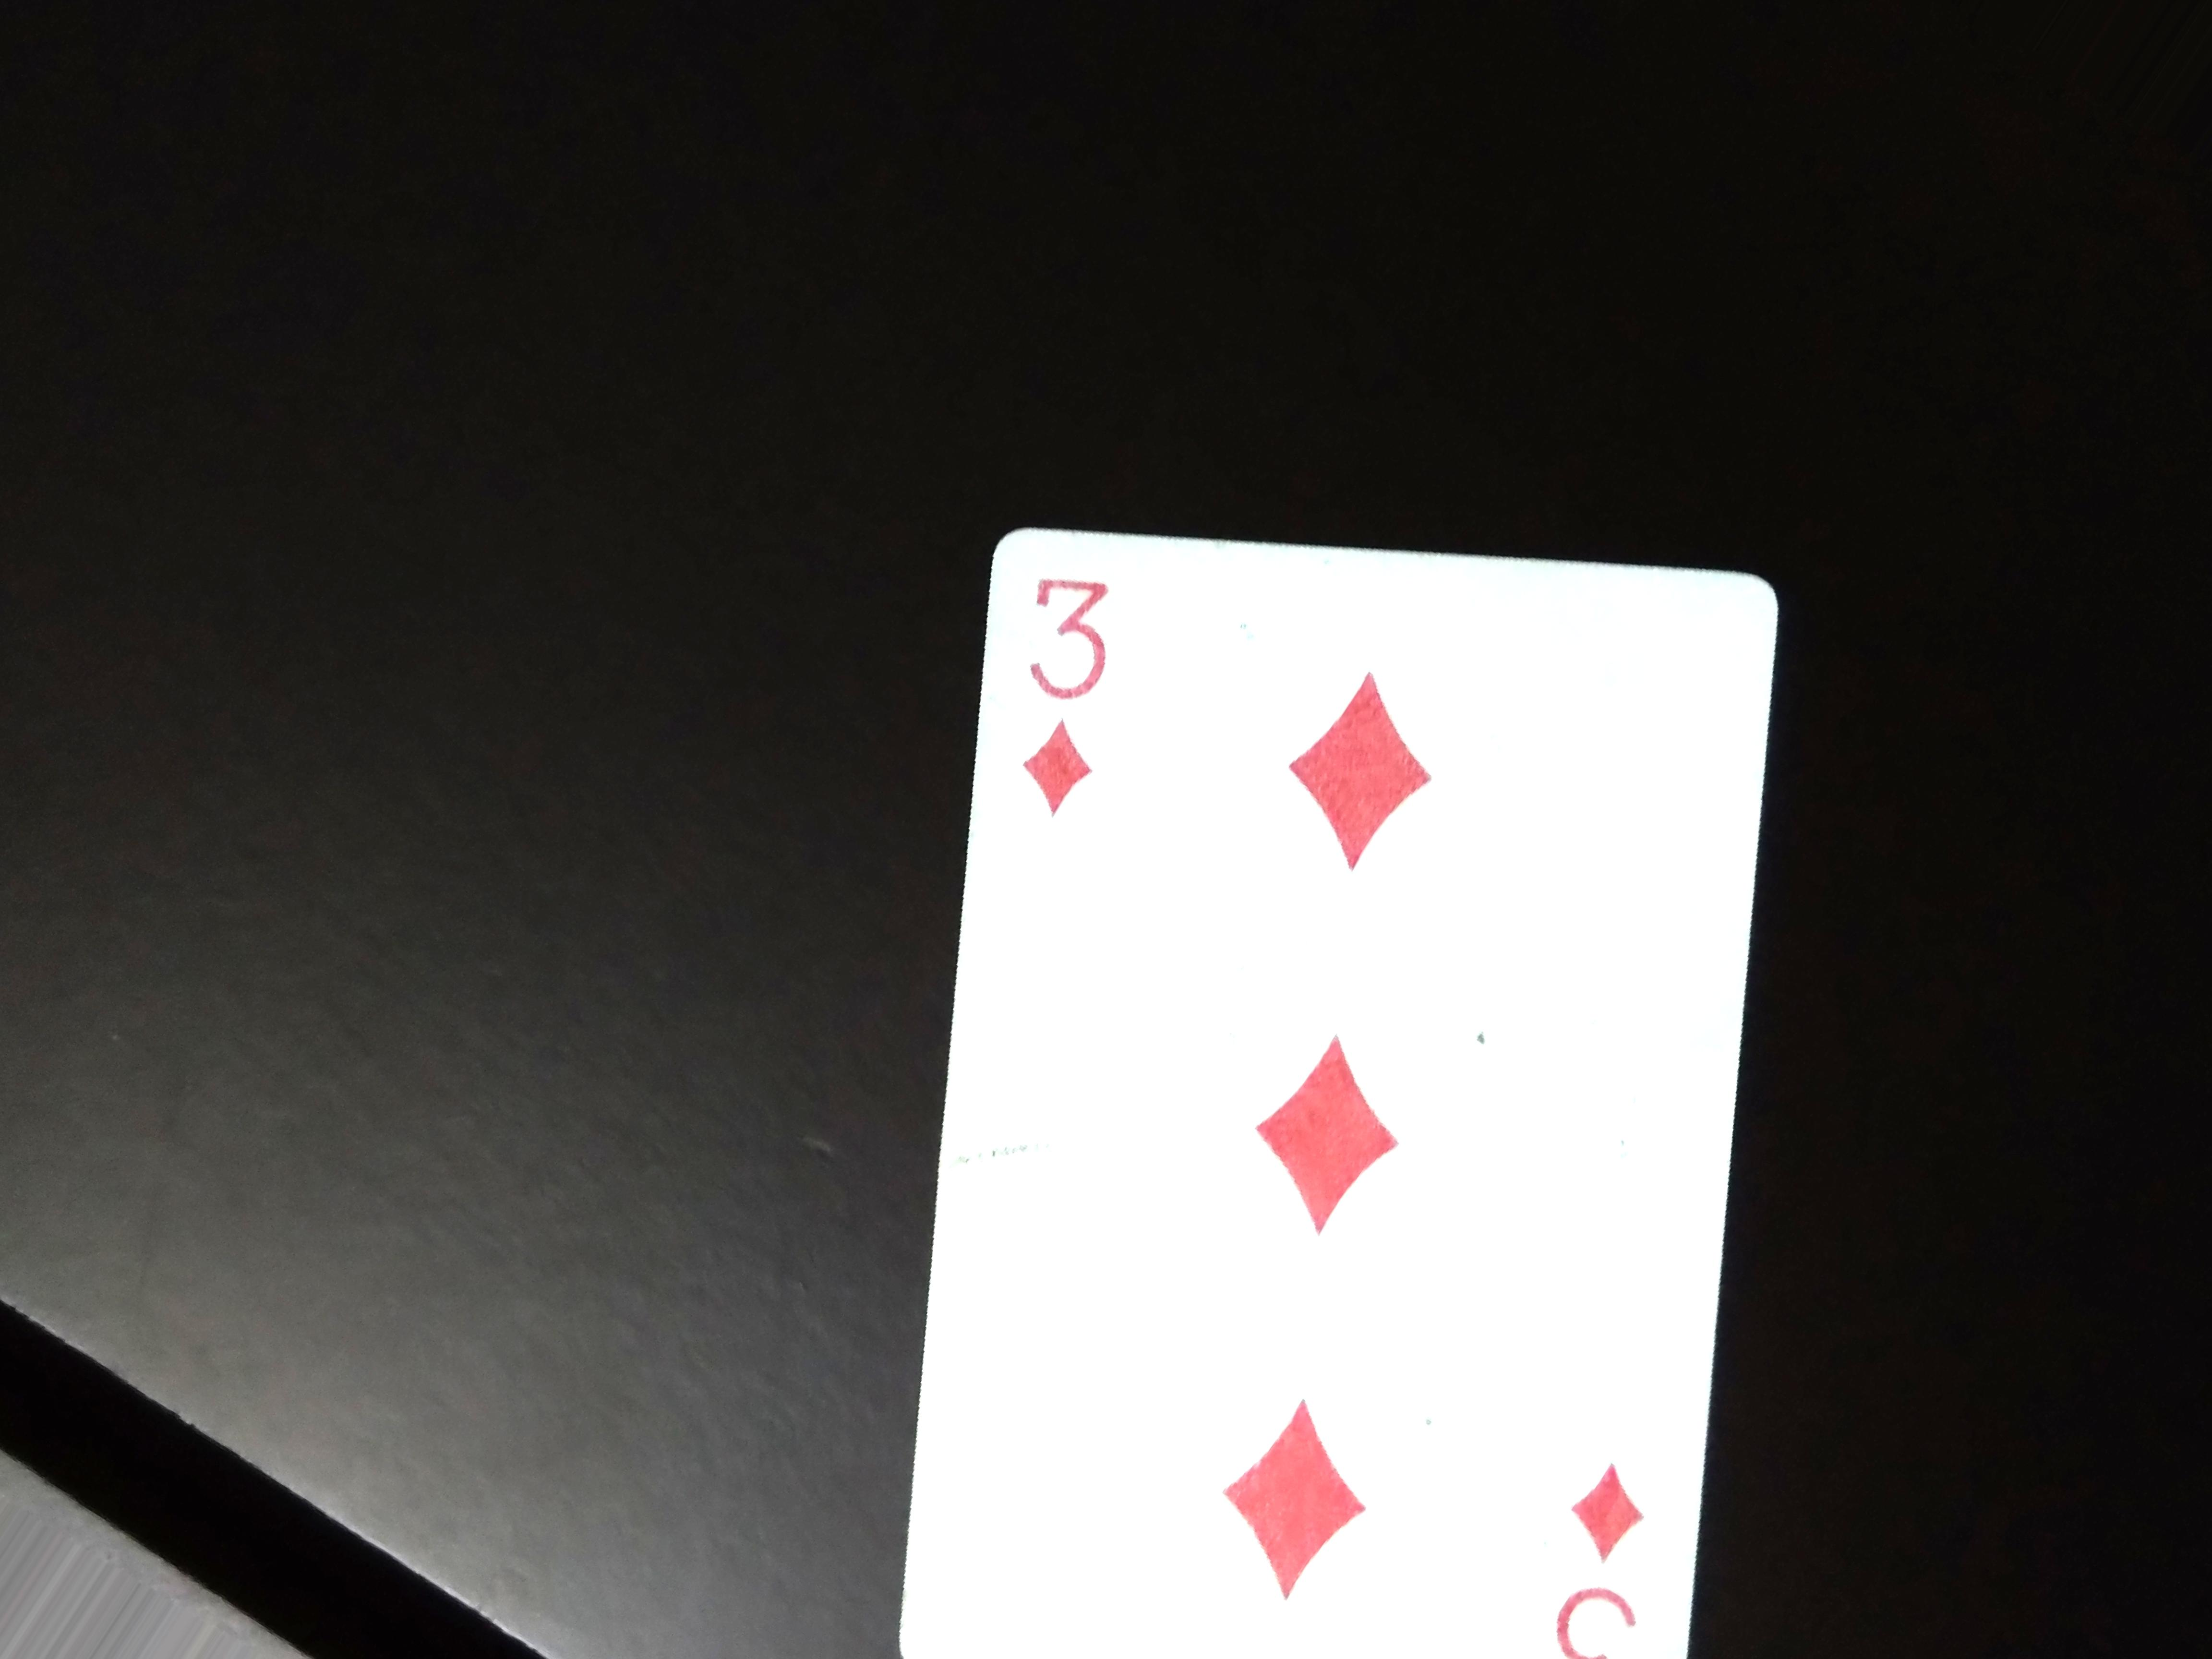3D: (1008, 558, 1129, 829)
